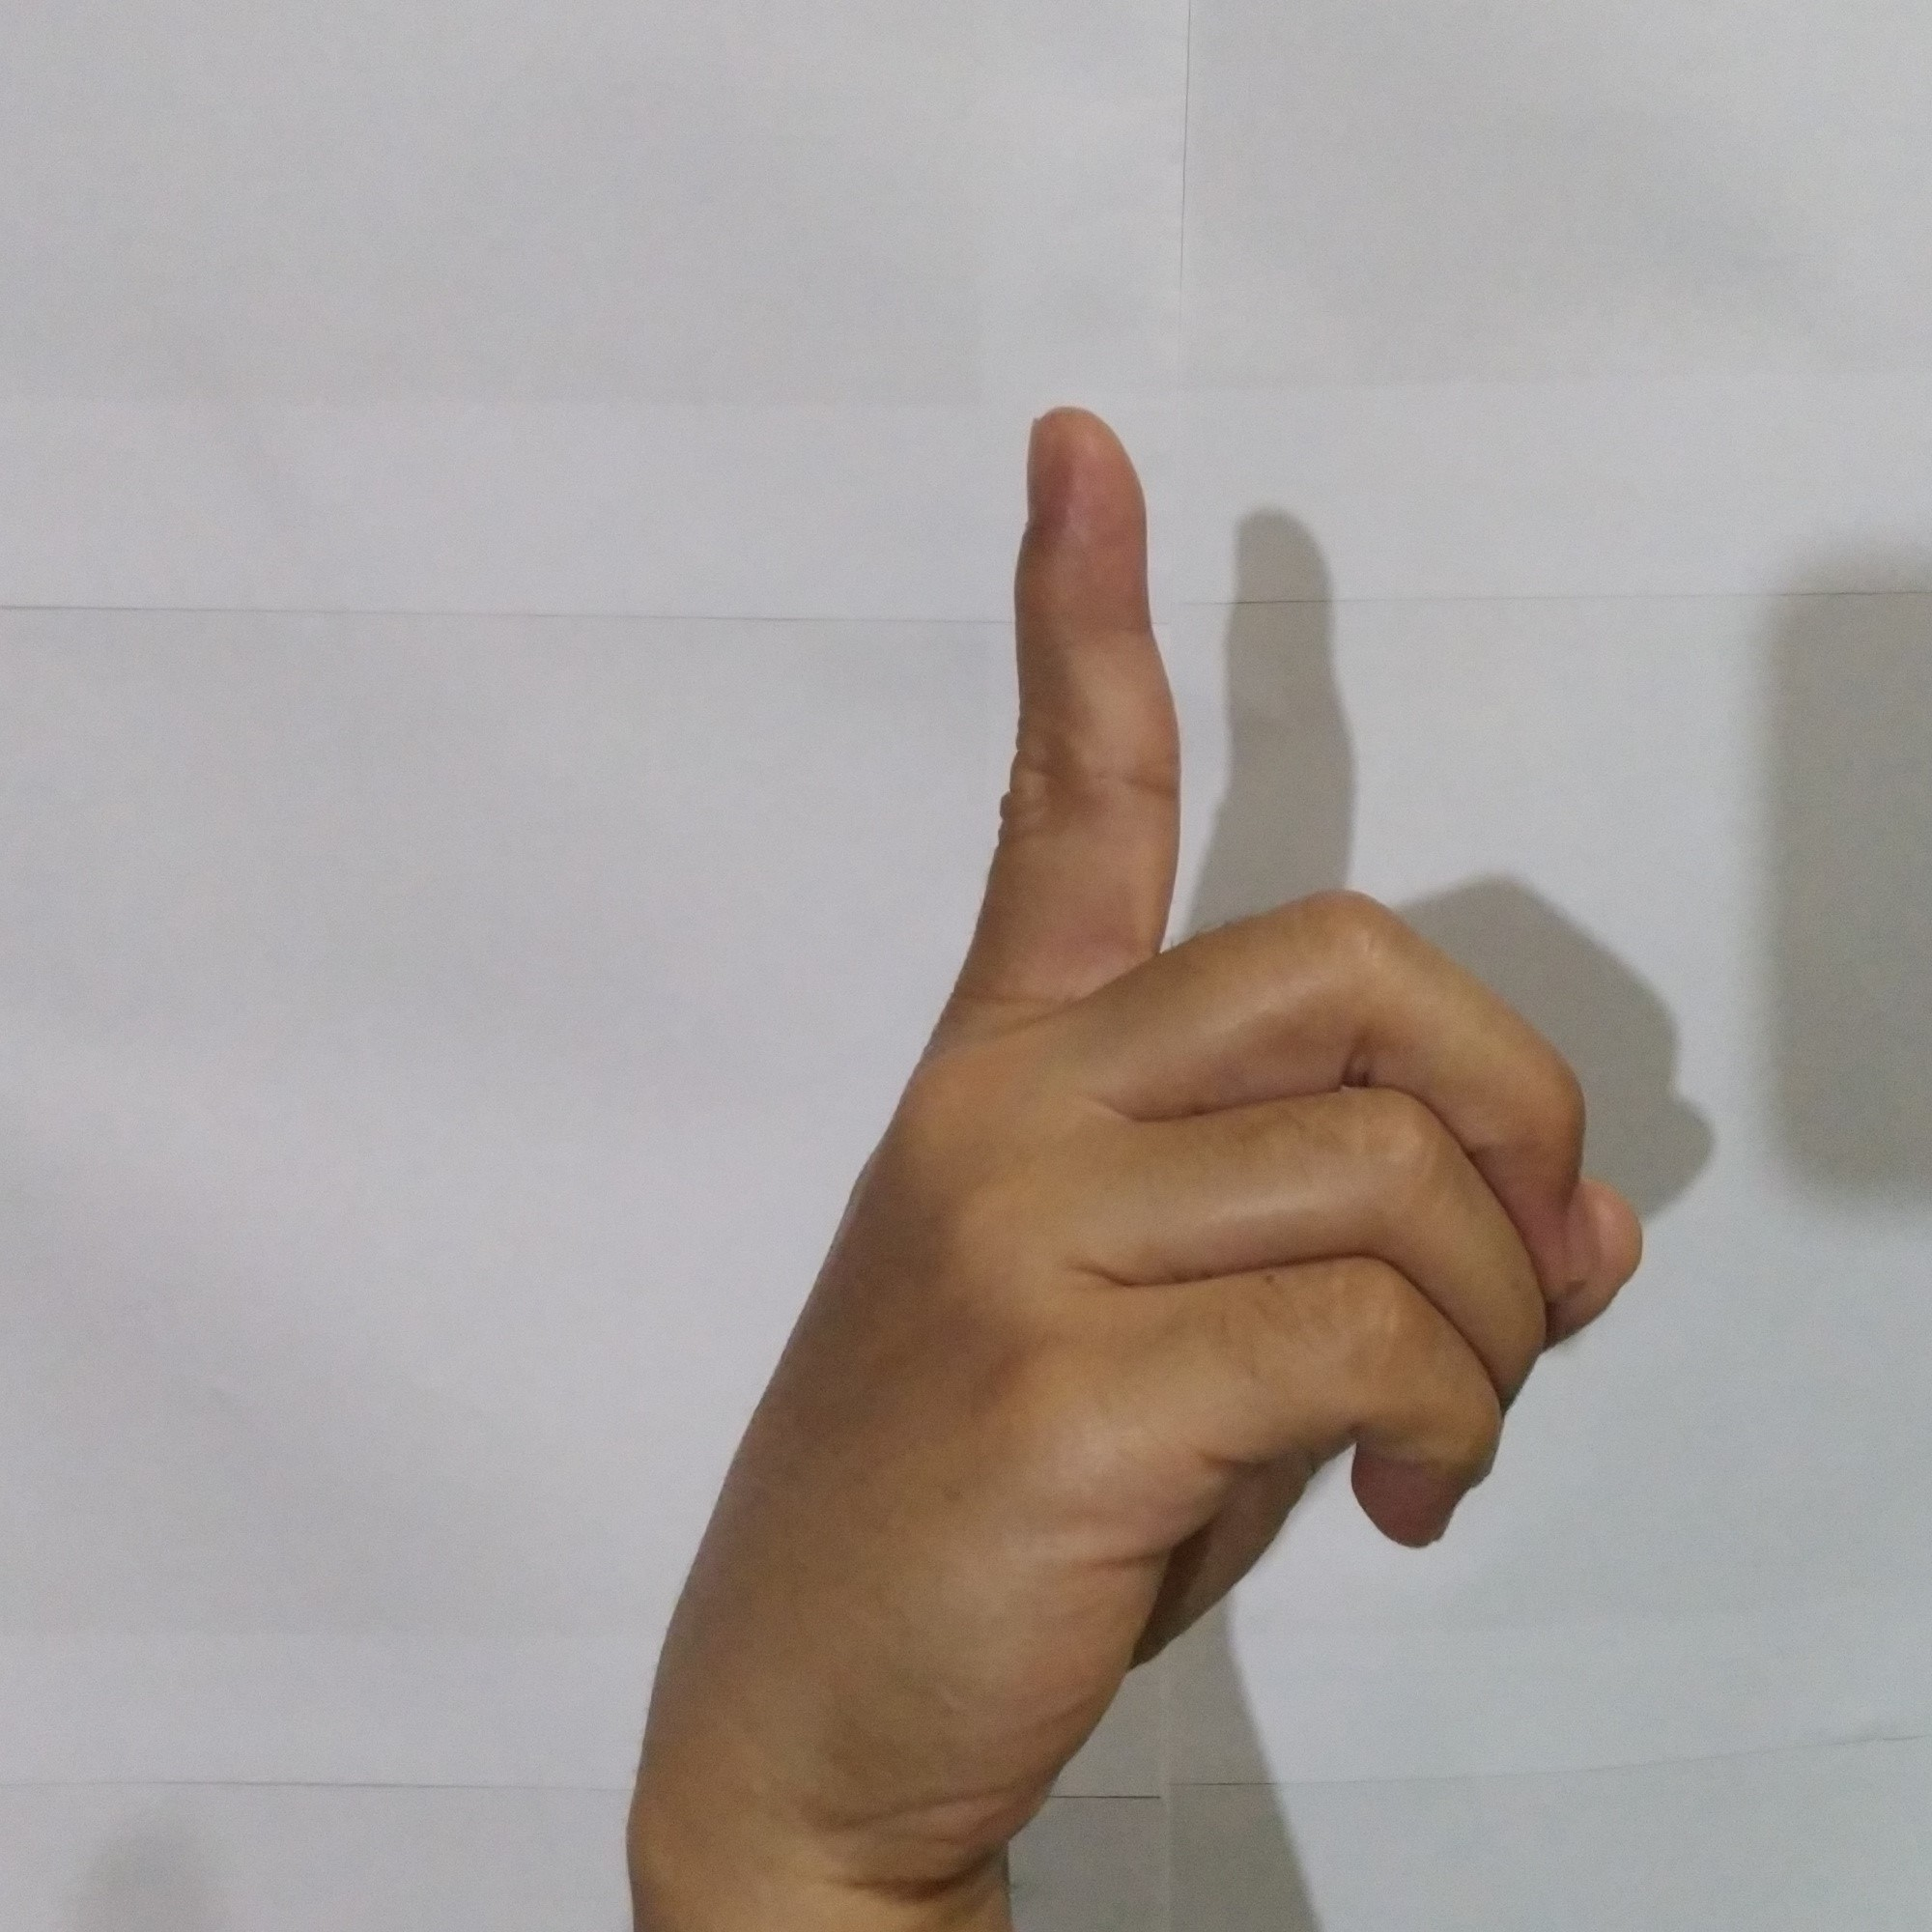D: (628, 364, 1668, 1851)
